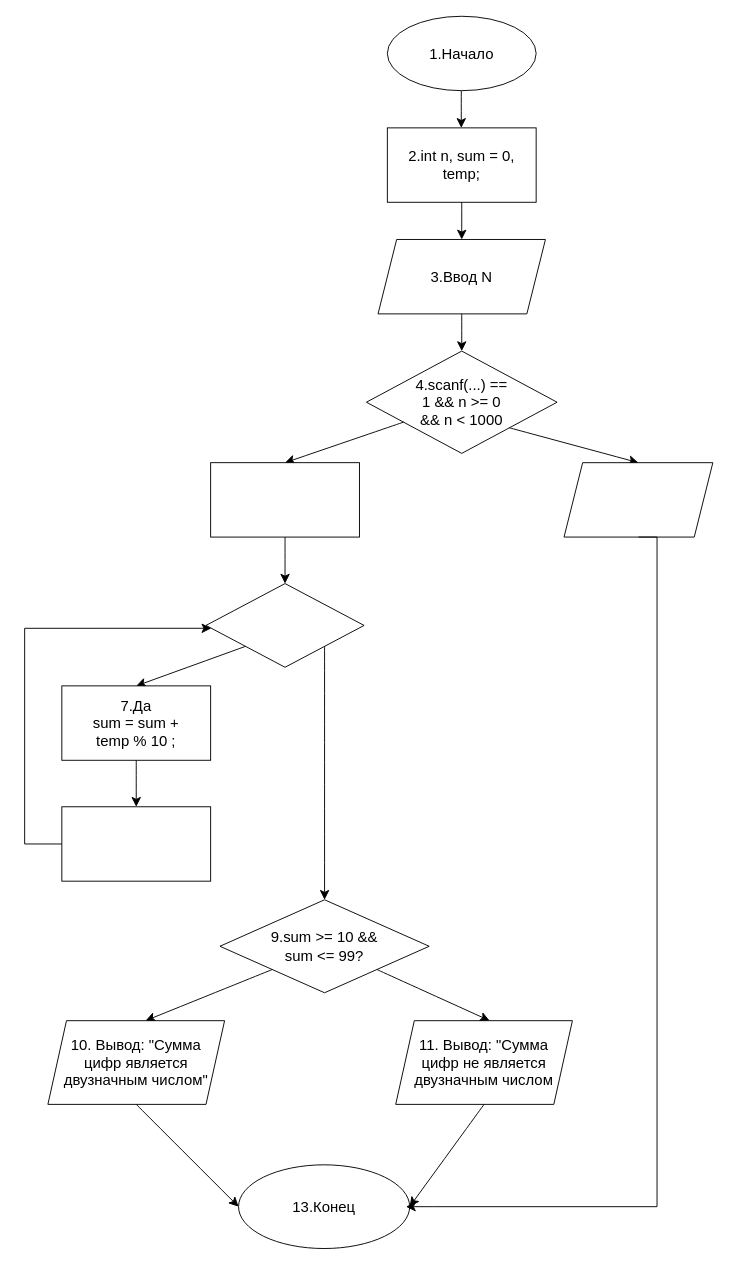
The diagram is 729 pixels wide and 1265 high, and some of its shapes have lost their labels. Here are the shapes that lost their labels. From the top down, the centre of each, then its label:
pixel 284 499: 5.Да temp = n;
pixel 638 499: 12.Нет Вывод ошибки ввода
pixel 284 625: 6.temp > 0?
pixel 136 843: 8.temp = temp / 10;
